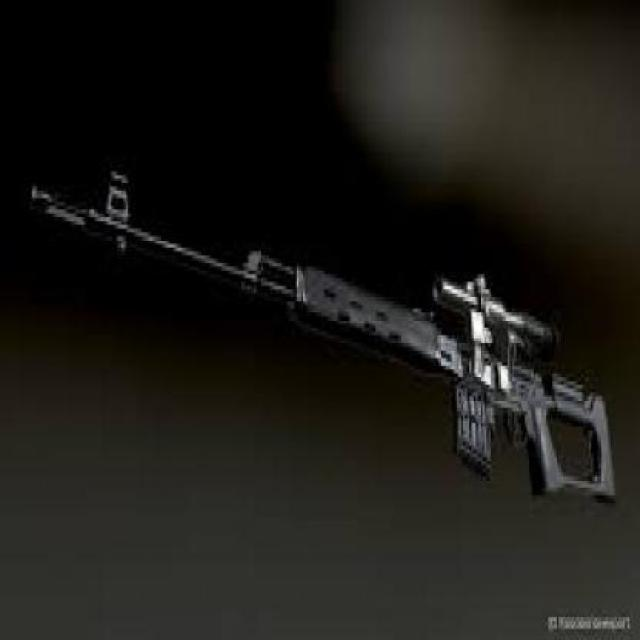weapon: (18, 147, 640, 527)
